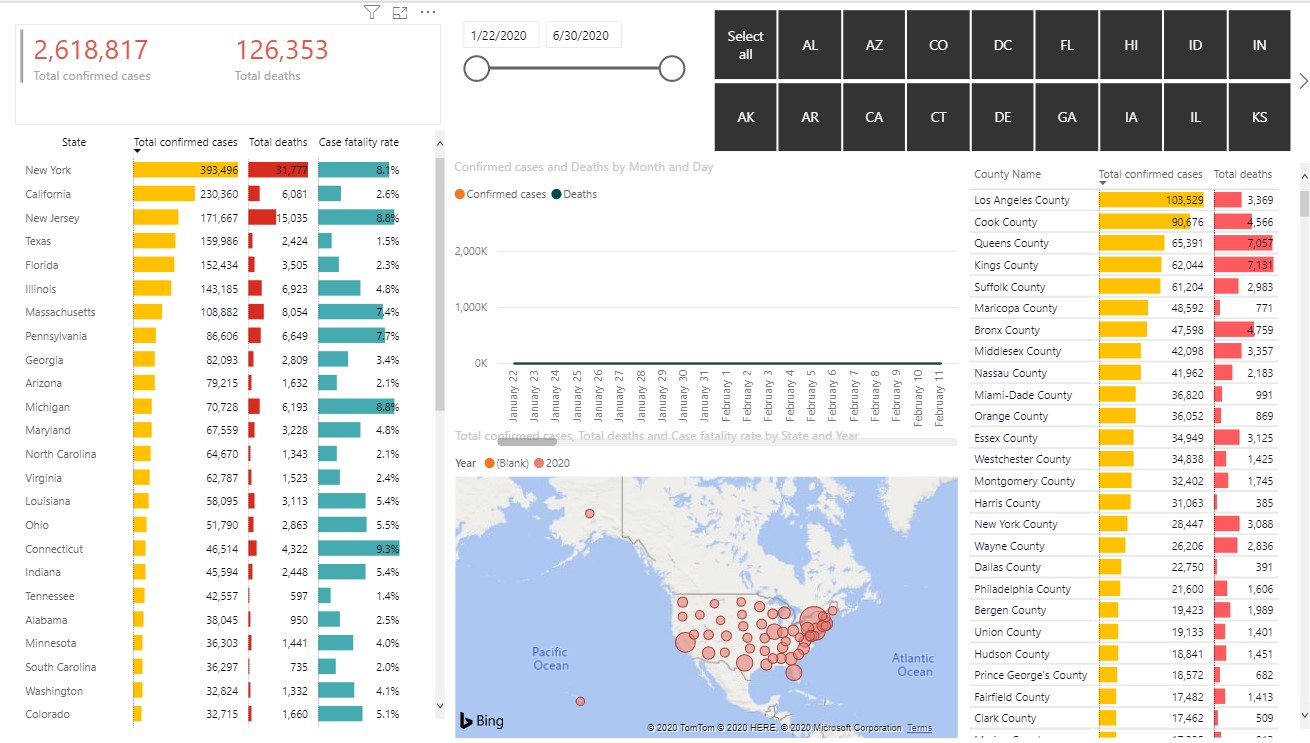

The dashboard page shown, as its layout file describes it:
{"tool":"powerbi","page":{"name":"Dashboard","canvas":[1280,720],"ordinal":0},"visuals":[{"type":"map","fields":{"Category":["StateDim.State"],"Size":["COVID measures.Total confirmed cases"],"Series":["COVID.Date.Variation.Date Hierarchy.Year"]},"box":[438.7,412.4,499.1,308.1],"z":0},{"type":"slicer","fields":{"Values":["COVID.State"]},"box":[669.7,0,610.3,151.1],"z":1000},{"type":"pivotTable","fields":{"Rows":["StateDim.State"],"Values":["COVID measures.Total confirmed cases","COVID measures.Total deaths","COVID measures.Case fatality rate"]},"box":[15.6,118.9,423.1,591.7],"z":2000},{"type":"slicer","fields":{"Values":["COVID.Date"]},"box":[438.7,7.8,239.8,118.9],"z":3000},{"type":"lineChart","fields":{"Category":["COVID.Date.Variation.Date Hierarchy.Month","COVID.Date.Variation.Date Hierarchy.Day"],"Y":["COVID measures.Confirmed cases","COVID measures.Deaths"]},"box":[437.7,151.1,500.1,284.7],"z":4000},{"type":"multiRowCard","fields":{"Values":["COVID measures.Total confirmed cases","COVID measures.Total deaths"]},"box":[15.6,20.5,414.3,98.5],"z":5000},{"type":"tableEx","fields":{"Values":["COVID.County Name","COVID measures.Total confirmed cases","COVID measures.Total deaths"]},"box":[937.8,151.1,342.2,569.3],"z":6000}]}

Visuals, with their boxes in screenshot pixels (x1, y1, x2, y2), scaled from the page's 1280x720 canvas onto the 1310x743 screenshot:
map - StateDim.State x COVID measures.Total confirmed cases: 449/426/960/742
slicer - COVID.State: 685/0/1309/156
pivotTable - StateDim.State x COVID measures.Total confirmed cases: 16/123/449/733
slicer - COVID.Date: 449/8/694/131
lineChart - COVID.Date.Variation.Date Hierarchy.Month x COVID.Date.Variation.Date Hierarchy.Day: 448/156/960/450
multiRowCard - COVID measures.Total confirmed cases x COVID measures.Total deaths: 16/21/440/123
tableEx - COVID.County Name x COVID measures.Total confirmed cases: 960/156/1309/742
